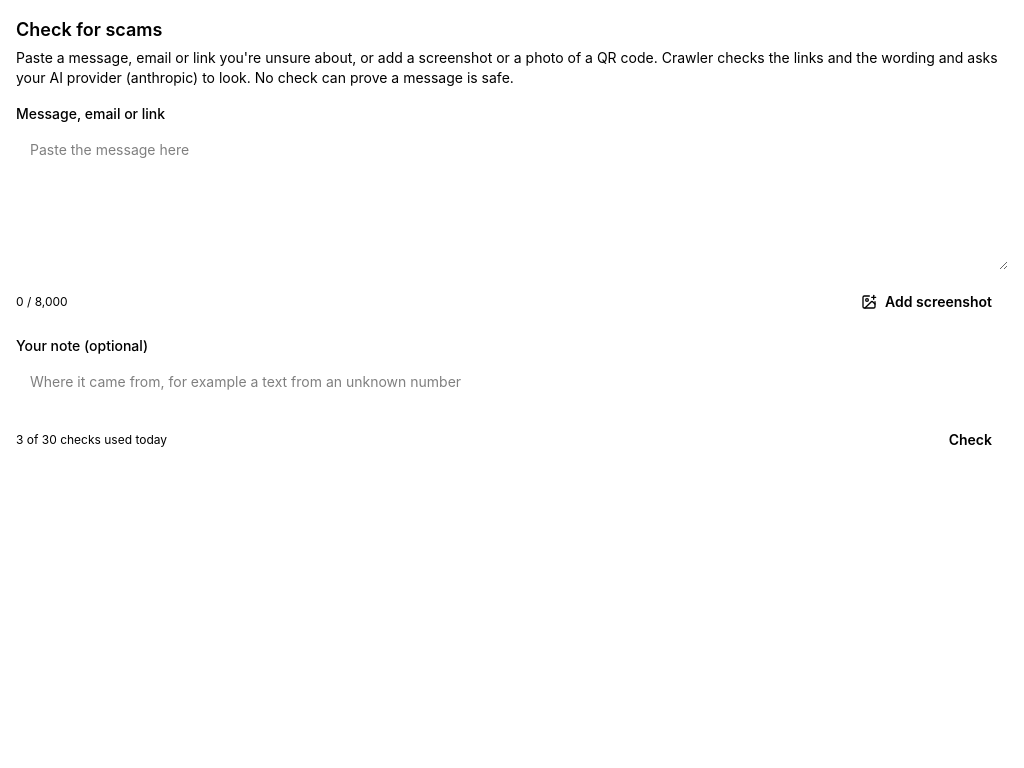
Test: ScamCheckTab › refreshes the quota line after a check
Expected: the heading "Check for scams" is shown, [16,19,162,40]
Expected: the text "3 of 30 checks used today" is shown, [16,432,167,448]
In the text box labelled "Message, email or link": (512, 200) [16,130,1008,270], type "Pay now"
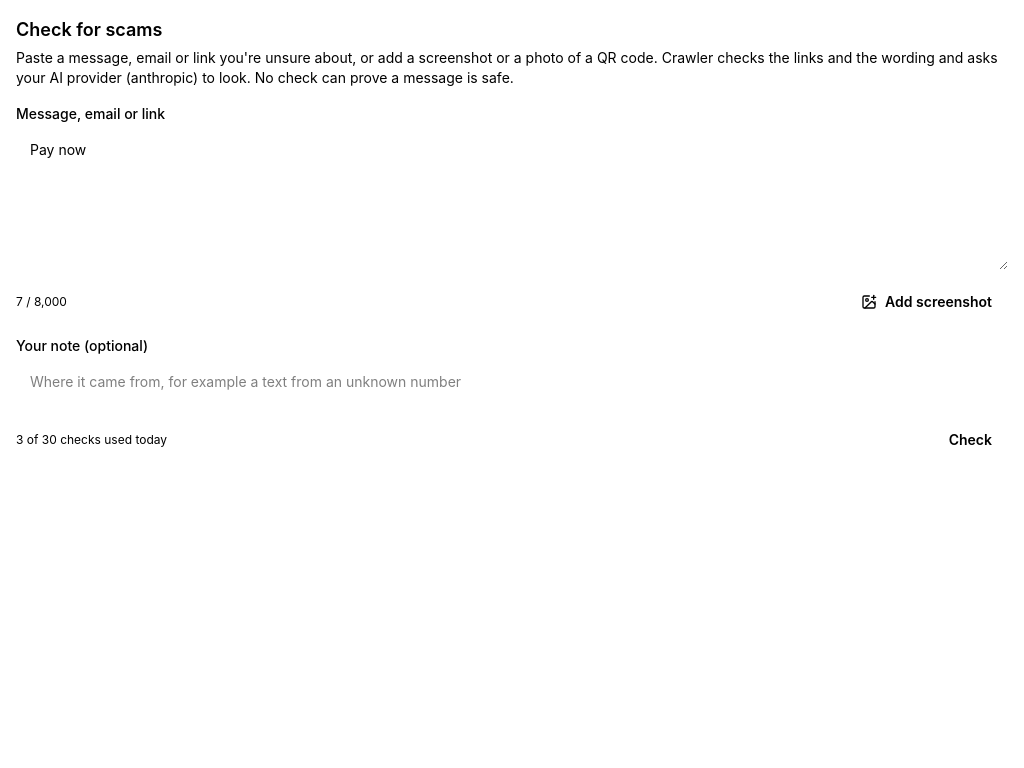
Click the button "Check": (970, 440) [933,418,1008,462]
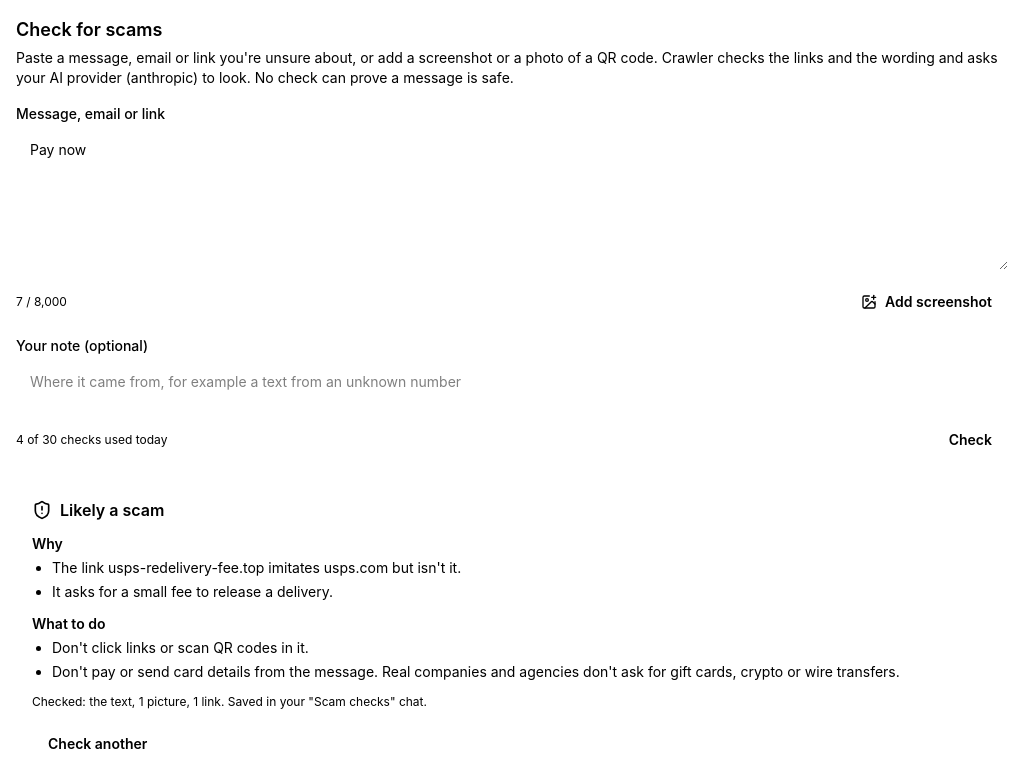
Now the text "4 of 30 checks used today" is shown, box [16,432,167,448]
